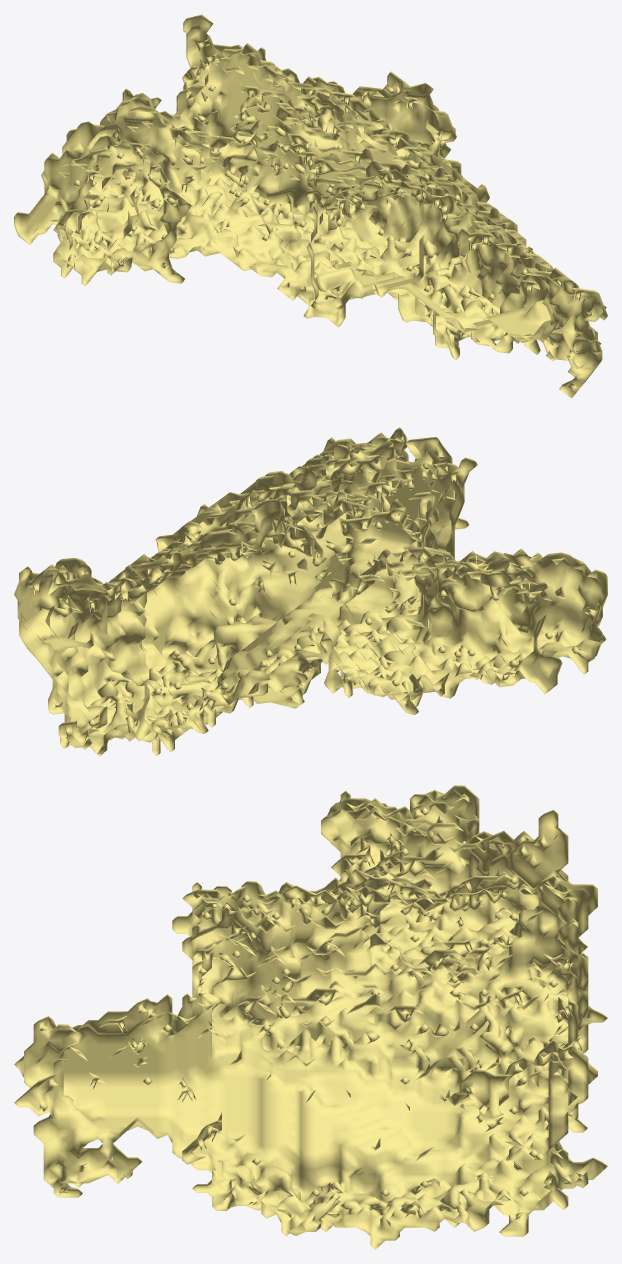
The model's file is osteocyte_202.glb.
The picture shows the model from 3 angles, top to bottom: view 1: azimuth 30°, elevation 25°; view 2: azimuth 150°, elevation 25°; view 3: azimuth 270°, elevation 25°; orthographic projection. The views are drawn at different scales.
Parts seen in each view (by area): view 1: osteocyte_202; view 2: osteocyte_202; view 3: osteocyte_202.
Part boxes in pixels (box(x1,y1,x2,y2)): osteocyte_202: box(14, 14, 607, 398); osteocyte_202: box(14, 427, 607, 756); osteocyte_202: box(14, 785, 607, 1249).
Bounding box in the file's own units: 28.89 × 17.82 × 28.89.
